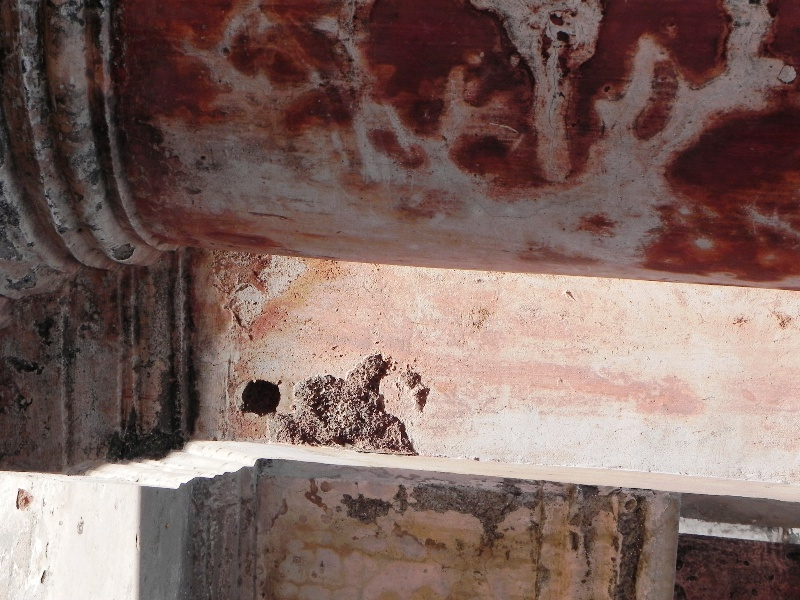Spalling: (286, 341, 429, 455)
